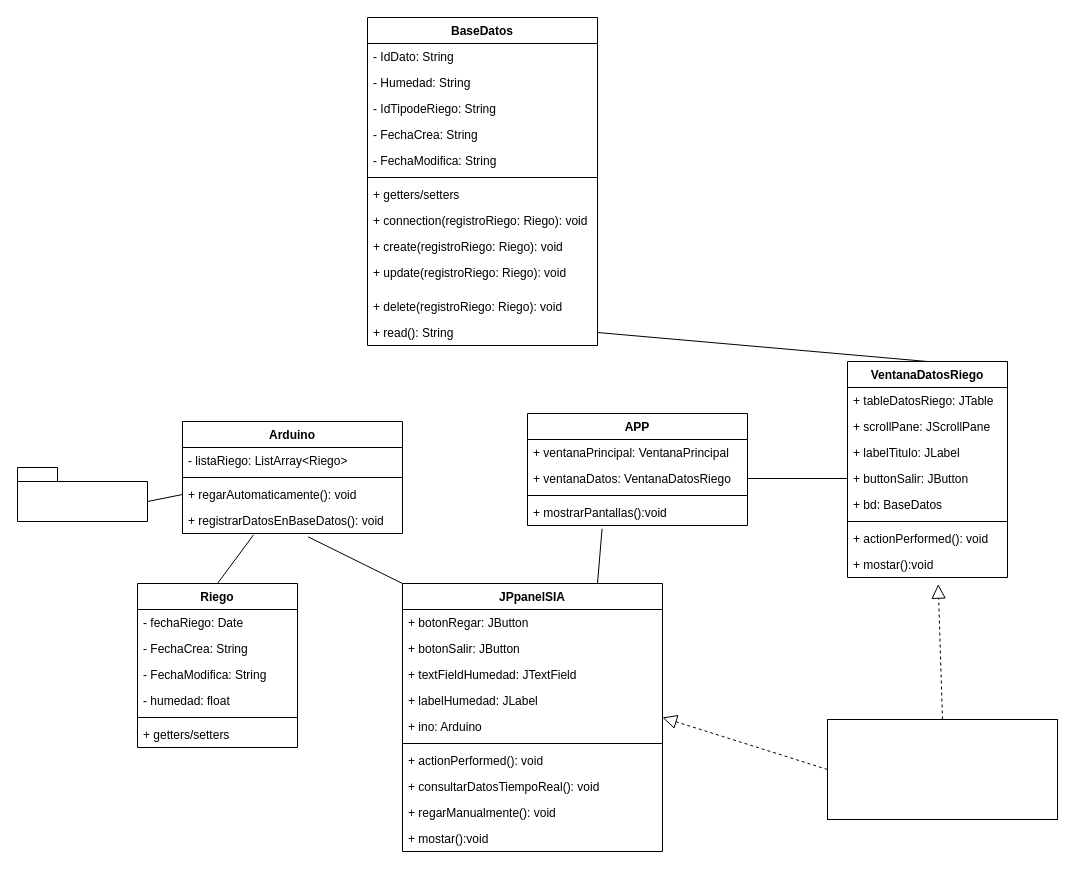
The diagram is 1075 pixels wide and 872 high, and some of its shapes have lost their labels. Here are the shapes that lost their labels. From the top down, the centre of each, then its label:
At point 82,494: "jSerialComm".
At point 942,769: "<<Interface>> ActionListener + actionPerformed(e:ActionEvent): void".
